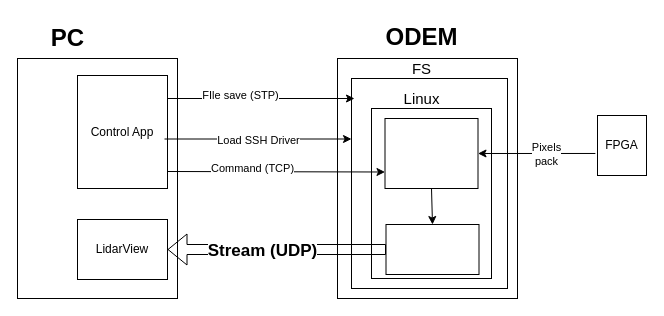
The diagram is 664 pixels wide and 316 high, and some of its shapes have lost their labels. The centre of each missing label's shape, as x and y in pixels:
"App" goes at point (431, 153).
"SSH Driver" goes at point (432, 249).
